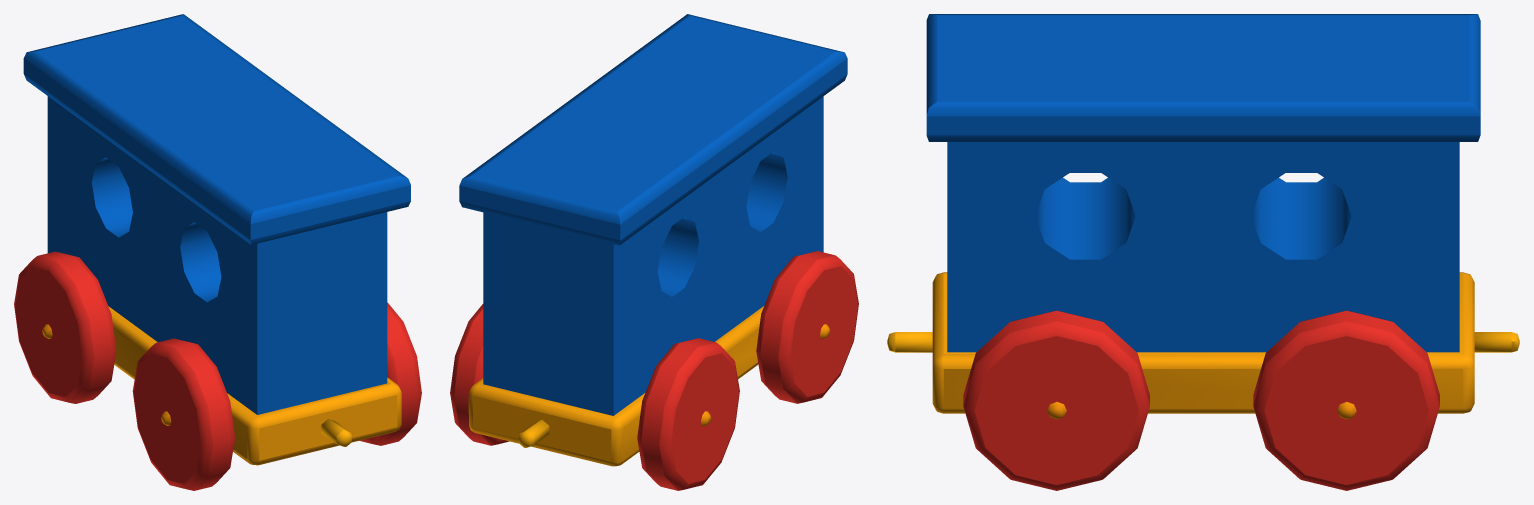
The model's file is TrainCar1.fbx.
The picture shows the model from 3 angles, left to right: view 1: azimuth 30°, elevation 25°; view 2: azimuth 150°, elevation 25°; view 3: azimuth 270°, elevation 25°; orthographic projection. The views are drawn at different scales.
Parts seen in each view (by area): view 1: TrainCar1, Tire.007, Tire.004, Tire.006; view 2: TrainCar1, Tire.004, Tire.007, Tire.005; view 3: TrainCar1, Tire.006, Tire.005.
Part boxes in pixels (x1,y1,x2,y2): TrainCar1: [23, 14, 410, 465]; Tire.007: [132, 338, 235, 490]; Tire.004: [14, 251, 116, 403]; Tire.006: [359, 302, 421, 445]; TrainCar1: [459, 14, 847, 466]; Tire.004: [637, 338, 739, 490]; Tire.007: [756, 251, 858, 403]; Tire.005: [450, 304, 509, 445]; TrainCar1: [887, 14, 1519, 413]; Tire.006: [963, 310, 1149, 490]; Tire.005: [1253, 310, 1439, 490].
Bounding box in the file's own units: 14.85 × 18.95 × 29.22.
